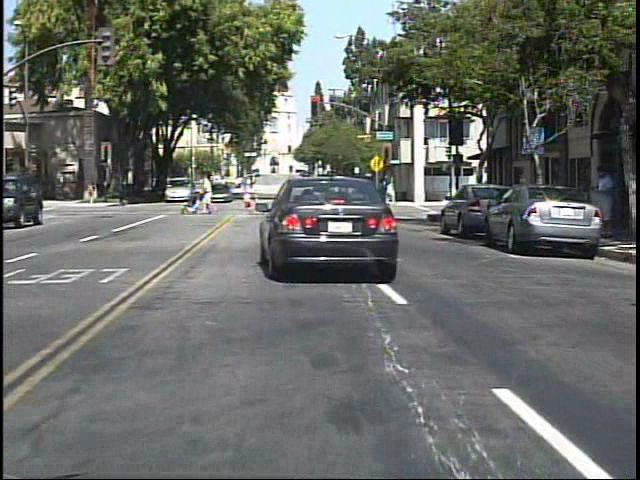person: (595, 162, 620, 214), (202, 171, 223, 218), (89, 179, 104, 207), (122, 175, 123, 205)
